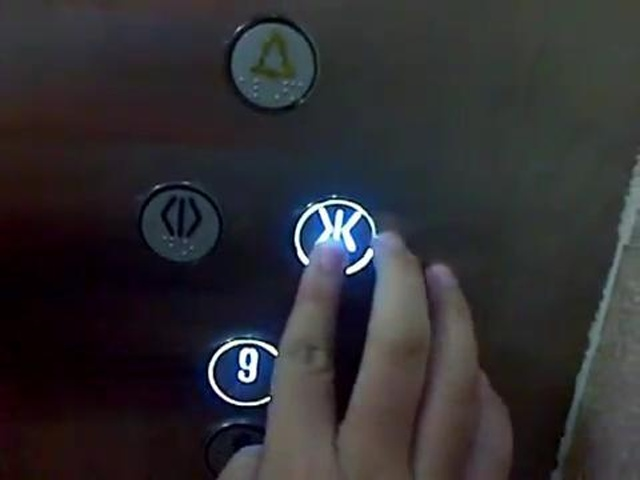9: (206, 335, 286, 409)
alarm: (221, 12, 320, 114)
close: (289, 192, 378, 279)
open: (136, 175, 224, 272)
